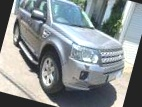car: (0, 0, 140, 107)
